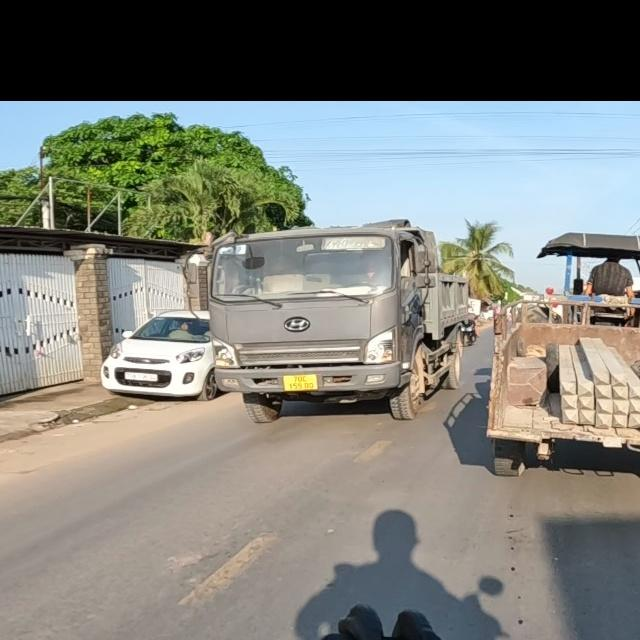license-plate: (283, 373, 318, 393), (125, 371, 158, 383)
